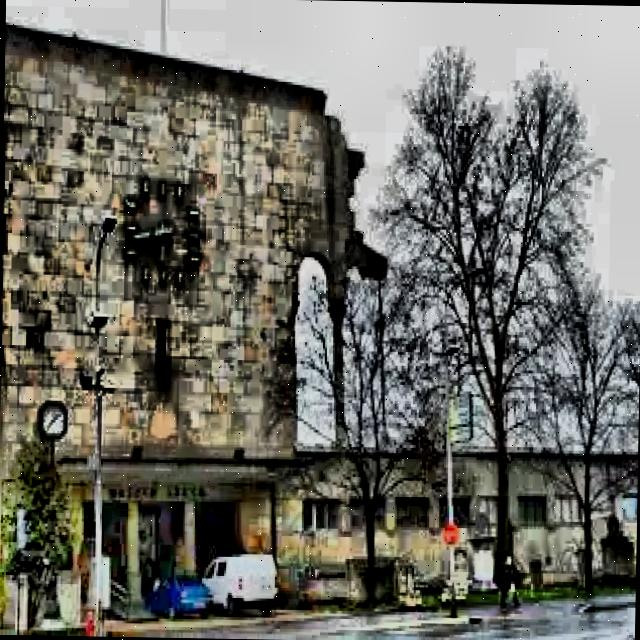old railway: (0, 21, 640, 616)
